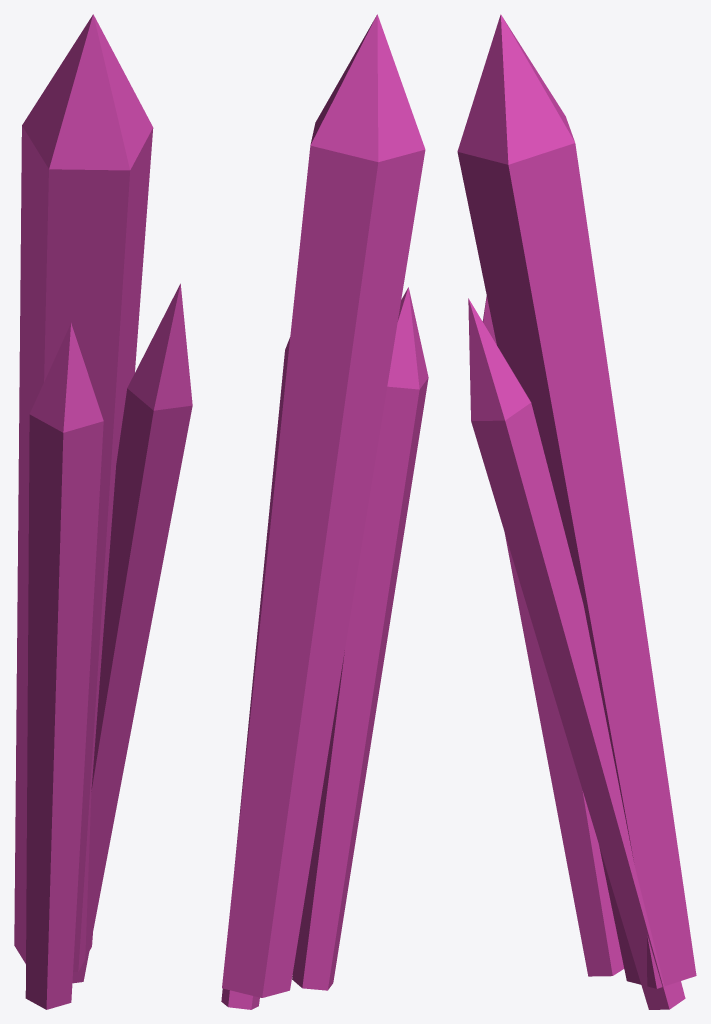
Rendered from small_crystals_17_4.fbx.
The picture shows the model from 3 angles, left to right: view 1: azimuth 30°, elevation 25°; view 2: azimuth 150°, elevation 25°; view 3: azimuth 270°, elevation 25°; orthographic projection. The views are drawn at different scales.
Parts seen in each view (by area): view 1: small crystals.028; view 2: small crystals.028; view 3: small crystals.028.
Part boxes in pixels (x1,y1,x2,y2): small crystals.028: [14, 14, 192, 1009]; small crystals.028: [221, 14, 428, 1009]; small crystals.028: [457, 14, 696, 1009].
Bounding box in the file's own units: 76.93 × 497 × 112.
